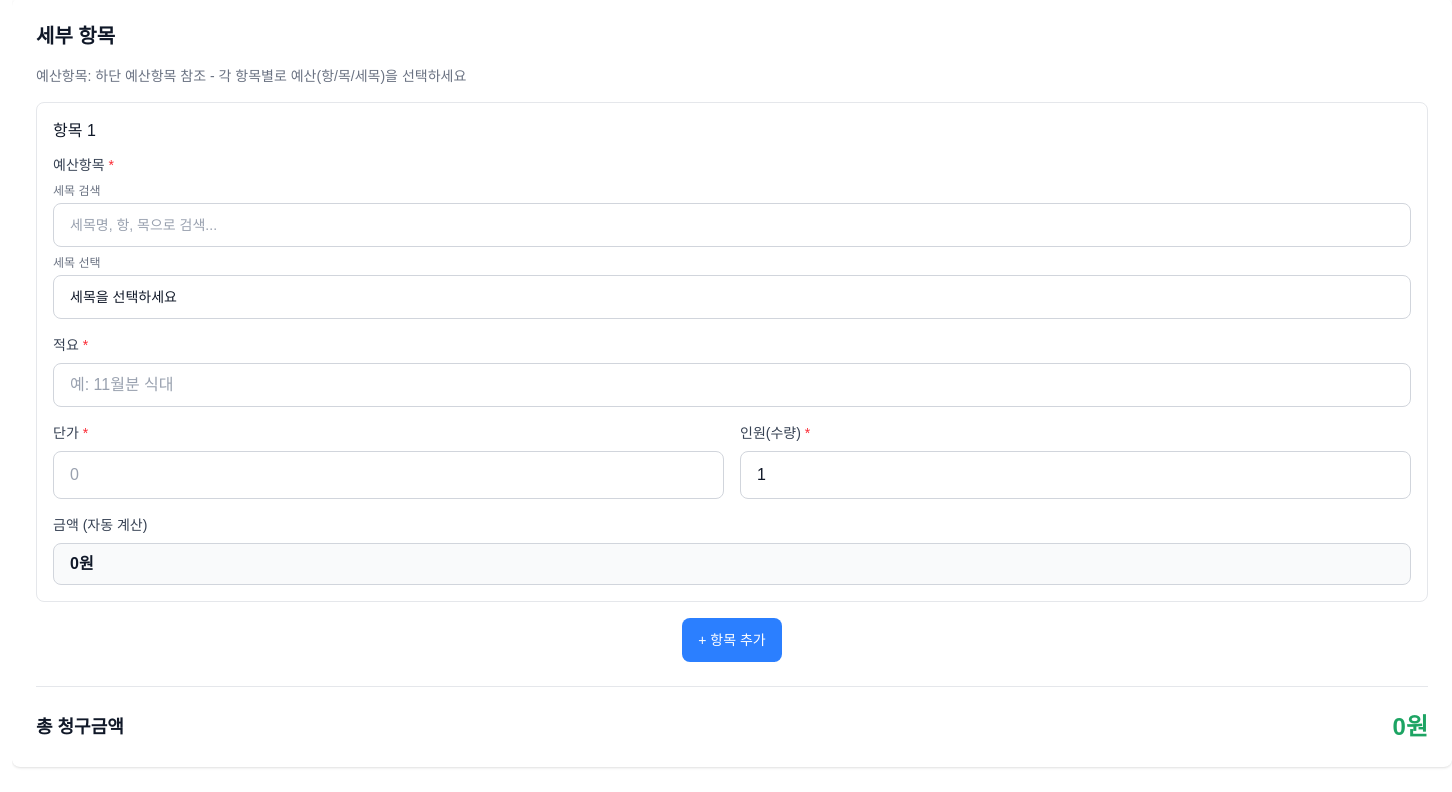
Scenario: SimpleItemsSection › 항목 추가/삭제 › 항목 추가 버튼 클릭 시 새 항목이 추가되어야 함
Expected: the heading "항목 1" is shown, [53,119,96,143]
Expected: the text "항목 2" is not shown
Note: 항목 추가 버튼 클릭
Click the button "+ 항목 추가" at point(732, 640), box [682,618,782,662]
(page scrolled)
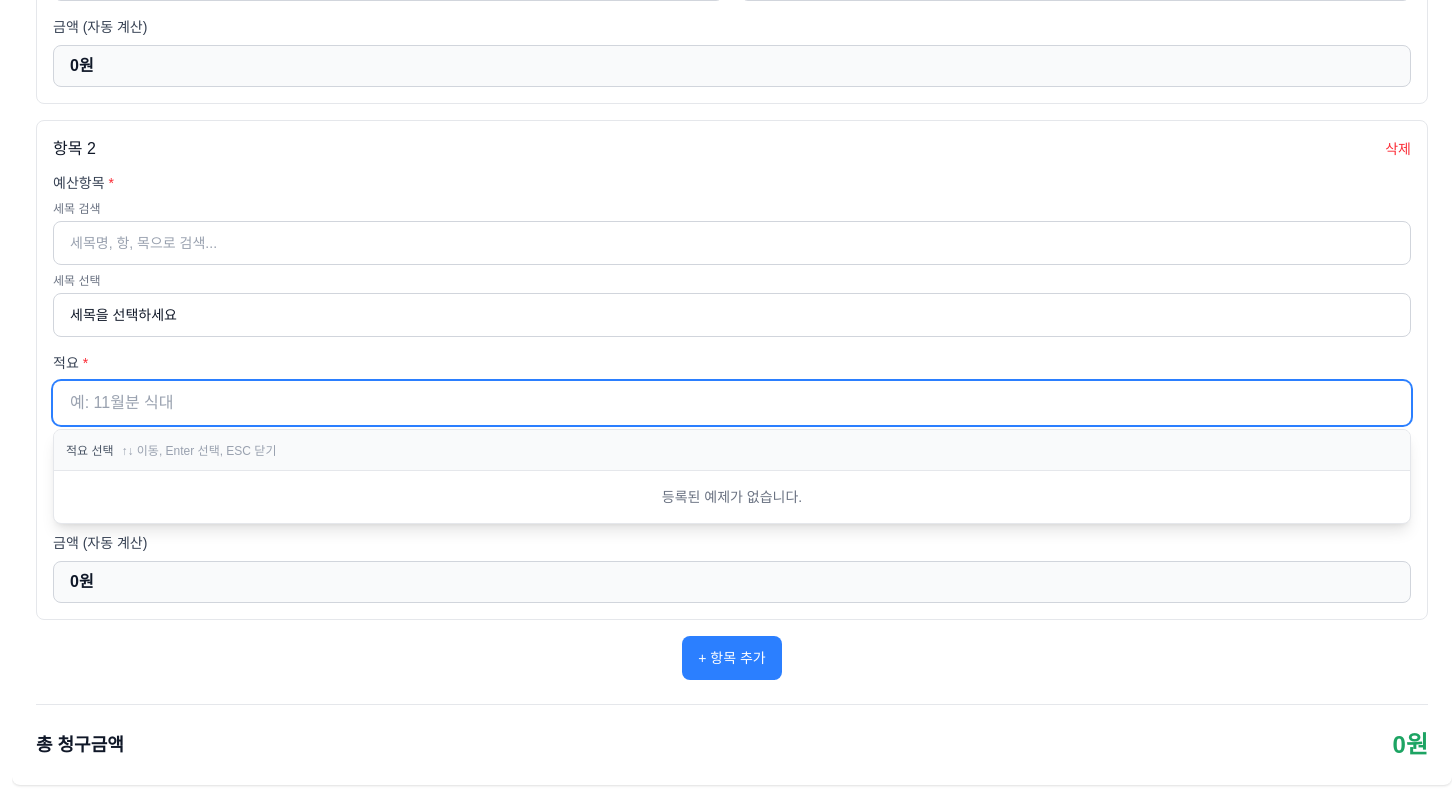
Now the heading "항목 2" is shown, box [53,137,96,161]
